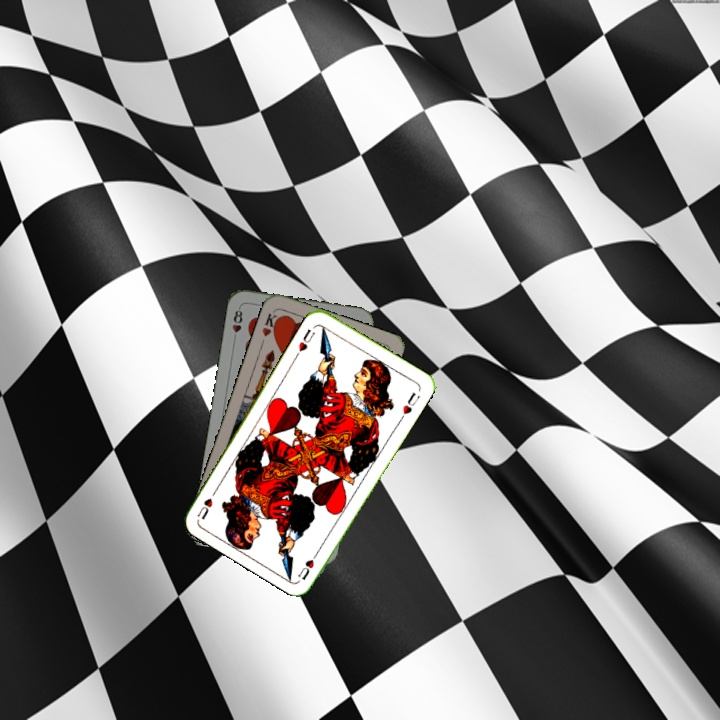H8: (228, 303, 245, 344)
HK: (258, 307, 283, 339)
HU: (294, 546, 322, 582), (292, 325, 318, 359)
